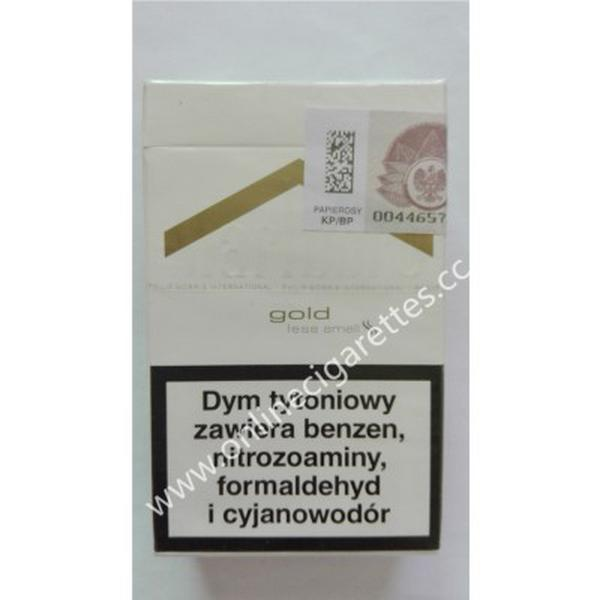marlboro_gold: (147, 87, 442, 549)
